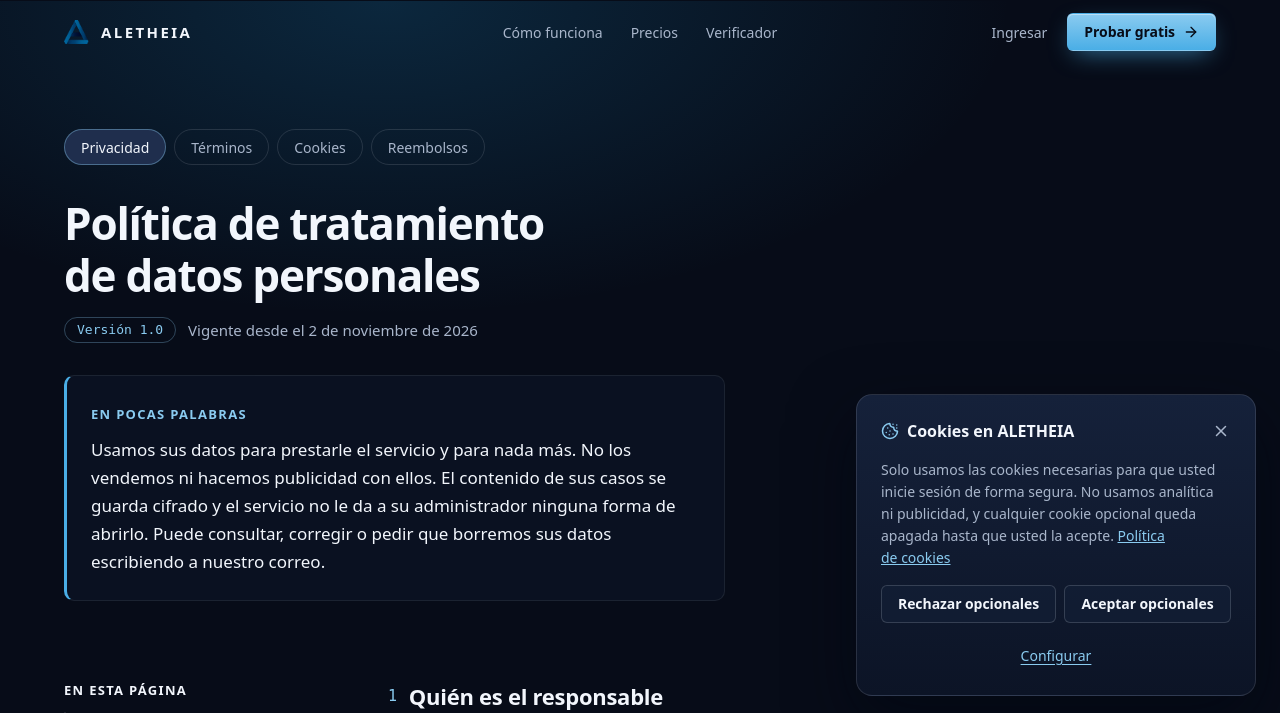
Test: Páginas legales (HU-003, CP-003) › cambia de política y marca la actual
Click the link "Reembolsos" at (428, 147), box [371, 129, 485, 165]
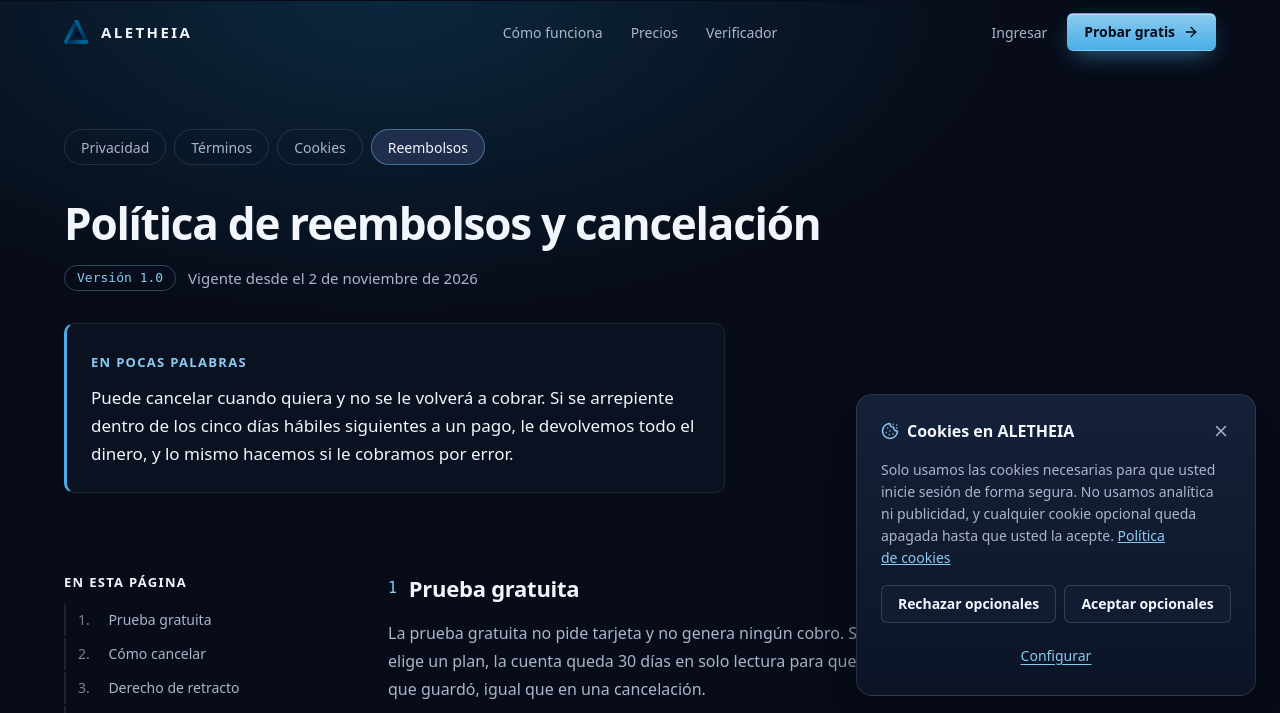
Expected: the heading "Política de reembolsos y cancelación" is shown, [64, 197, 884, 249]
